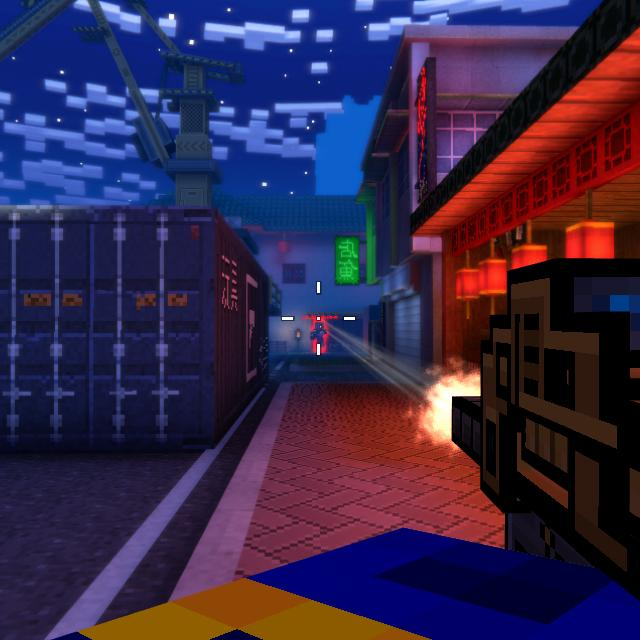Enemy: (311, 321, 327, 351)
